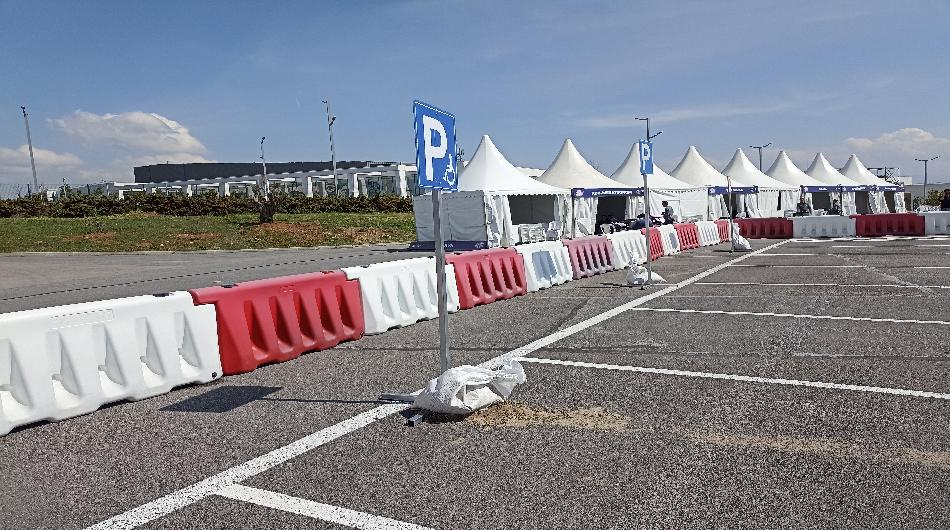engelli_park: (408, 95, 461, 194)
park: (636, 136, 655, 179)
